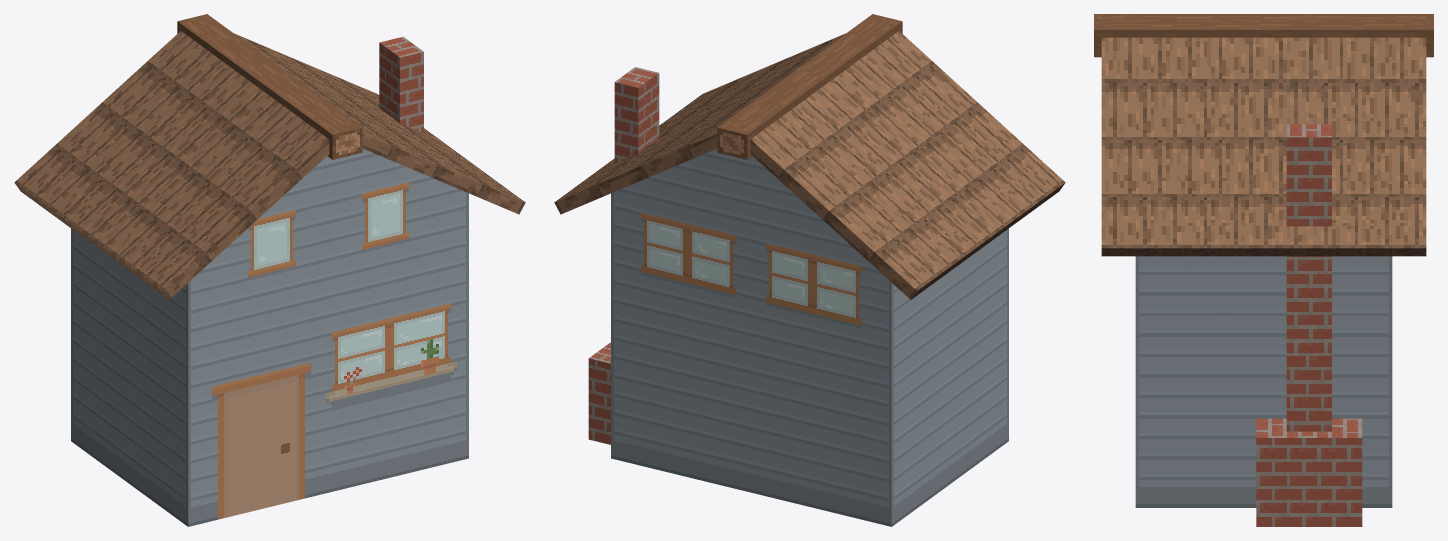
The model's file is casa2.gltf.
3 views of the same model, side by side, from view 1: azimuth 30°, elevation 25°; view 2: azimuth 150°, elevation 25°; view 3: azimuth 270°, elevation 25° (orthographic). The views are drawn at different scales.
Parts seen in each view (by area): view 1: cuboid (×5); view 2: cuboid (×6); view 3: cuboid (×5).
Boxes of the visible parts, x1,y1,x2,y2 form: cuboid (×5): (14,14,525,526); cuboid (×6): (554,14,1065,526); cuboid (×5): (1094,14,1433,526).
Bounding box in the file's own units: 7.59 × 7.5 × 5.62.
Materials: 3 (3 with a texture image).
